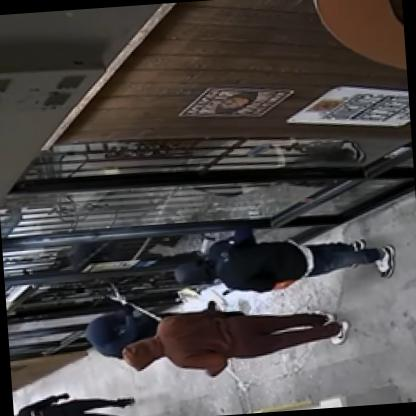Human Body: (116, 290, 357, 392), (169, 219, 405, 304), (81, 287, 235, 365), (12, 383, 146, 415)
